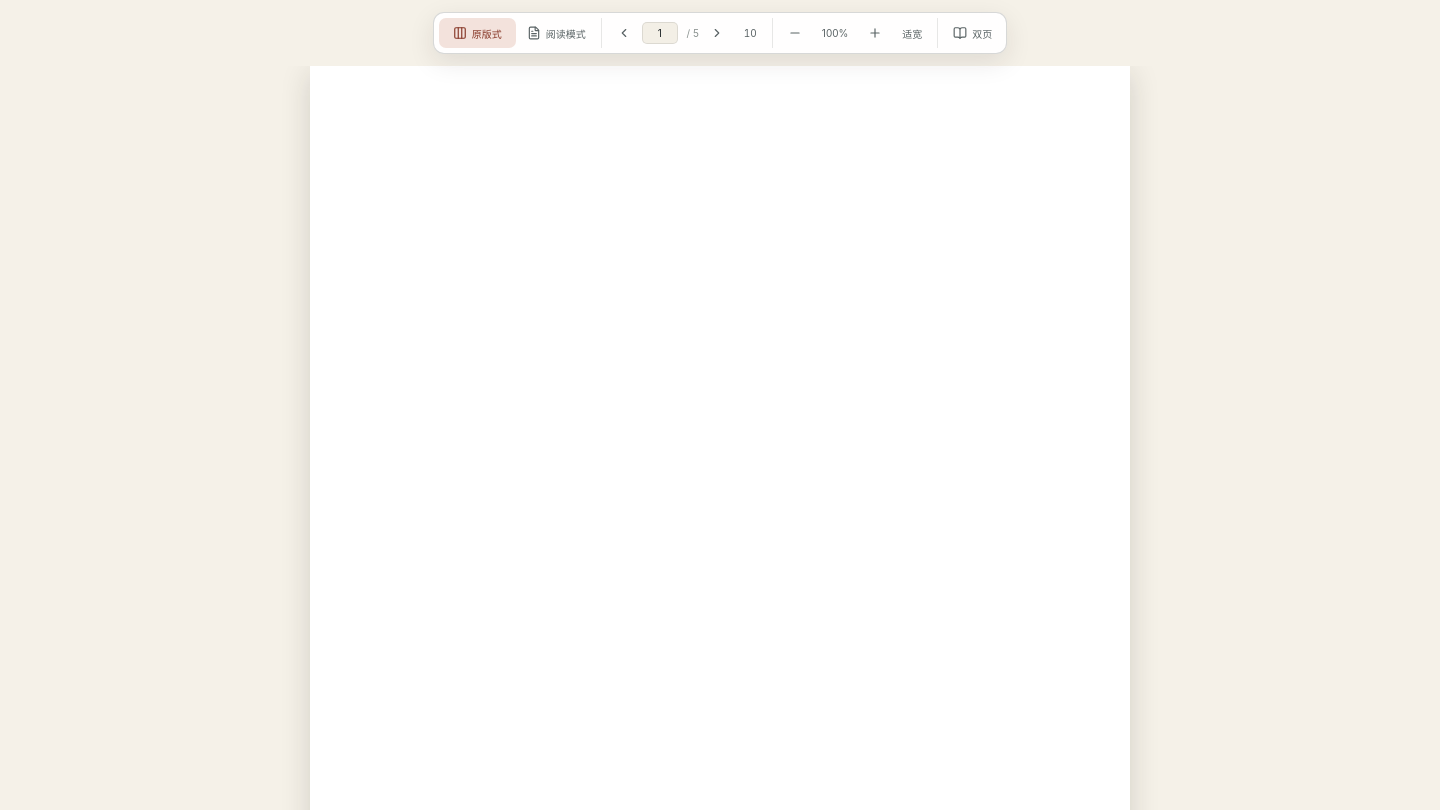
Scenario: PDF spread mode (plan-pdf-spread) › steps the pager by pairs while spread and keeps single-page numbers
The image size is (1440, 810).
Click the button "双页" at (973, 33), box top-left (944, 18), bottom-right (1001, 48)
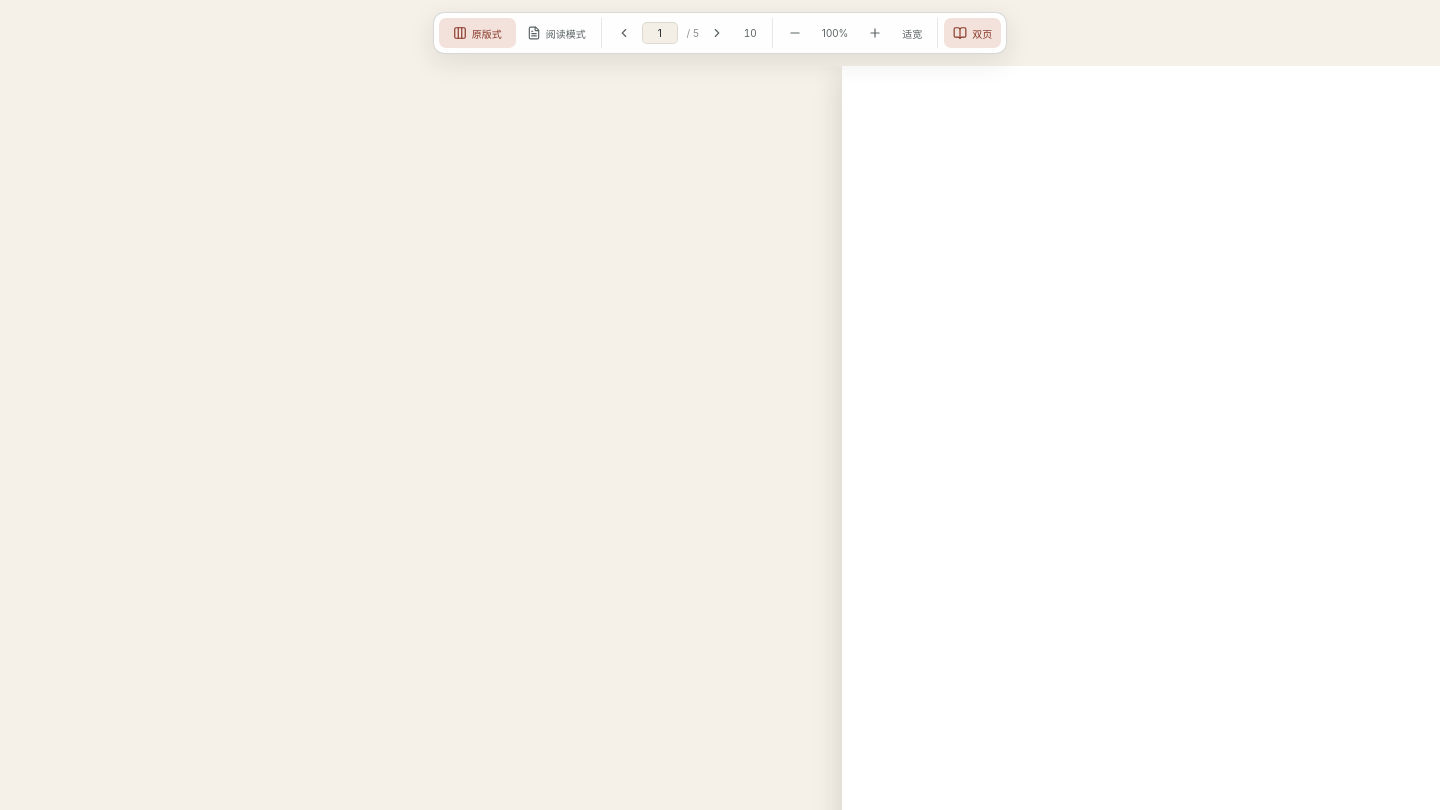
Expected: the field named "当前页" holds "1", top-left (642, 22), bottom-right (678, 44)
Click the button named "下一页" at (717, 33), box top-left (701, 18), bottom-right (733, 48)
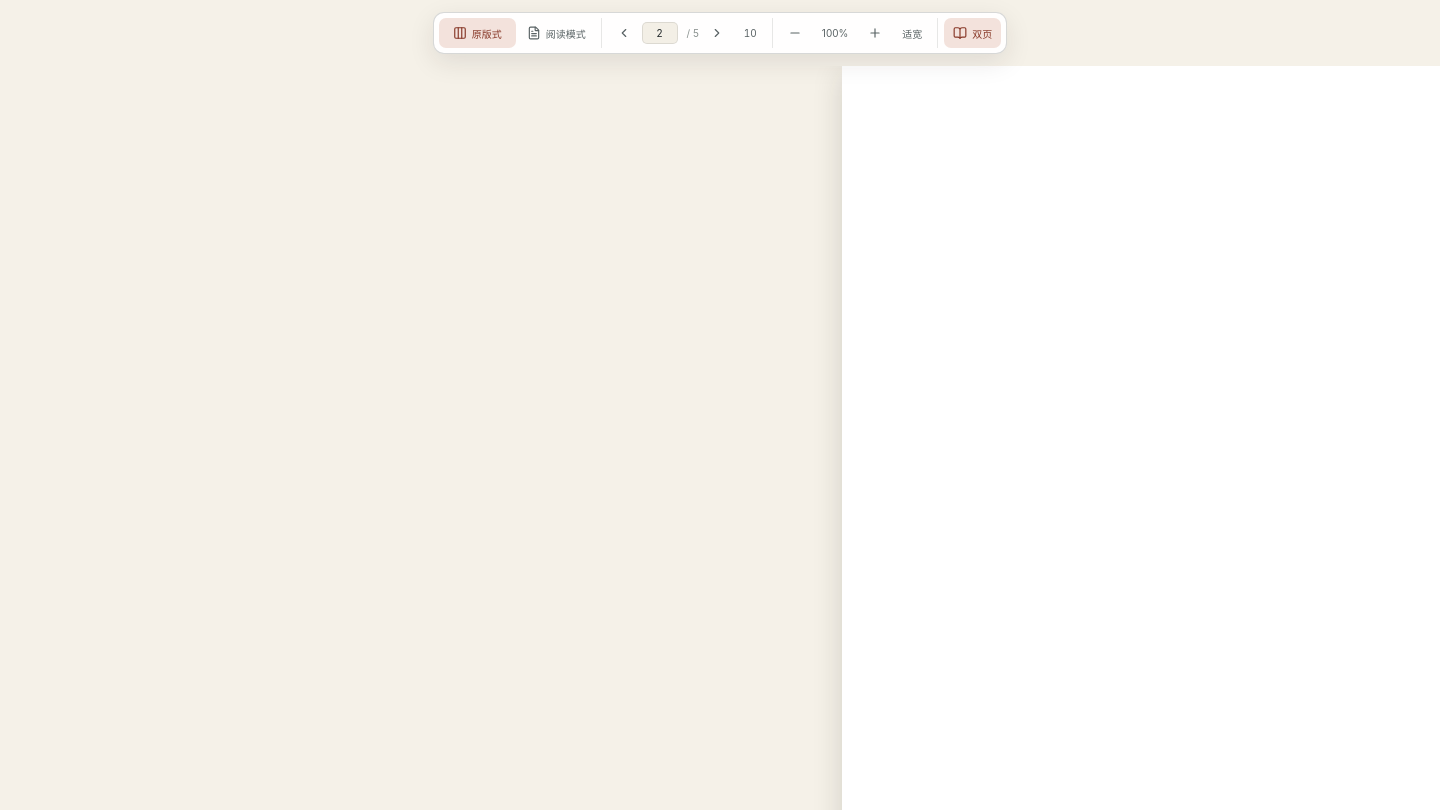
Now the field named "当前页" holds "2", box top-left (642, 22), bottom-right (678, 44)
Click the button named "下一页" at (717, 33), box top-left (701, 18), bottom-right (733, 48)
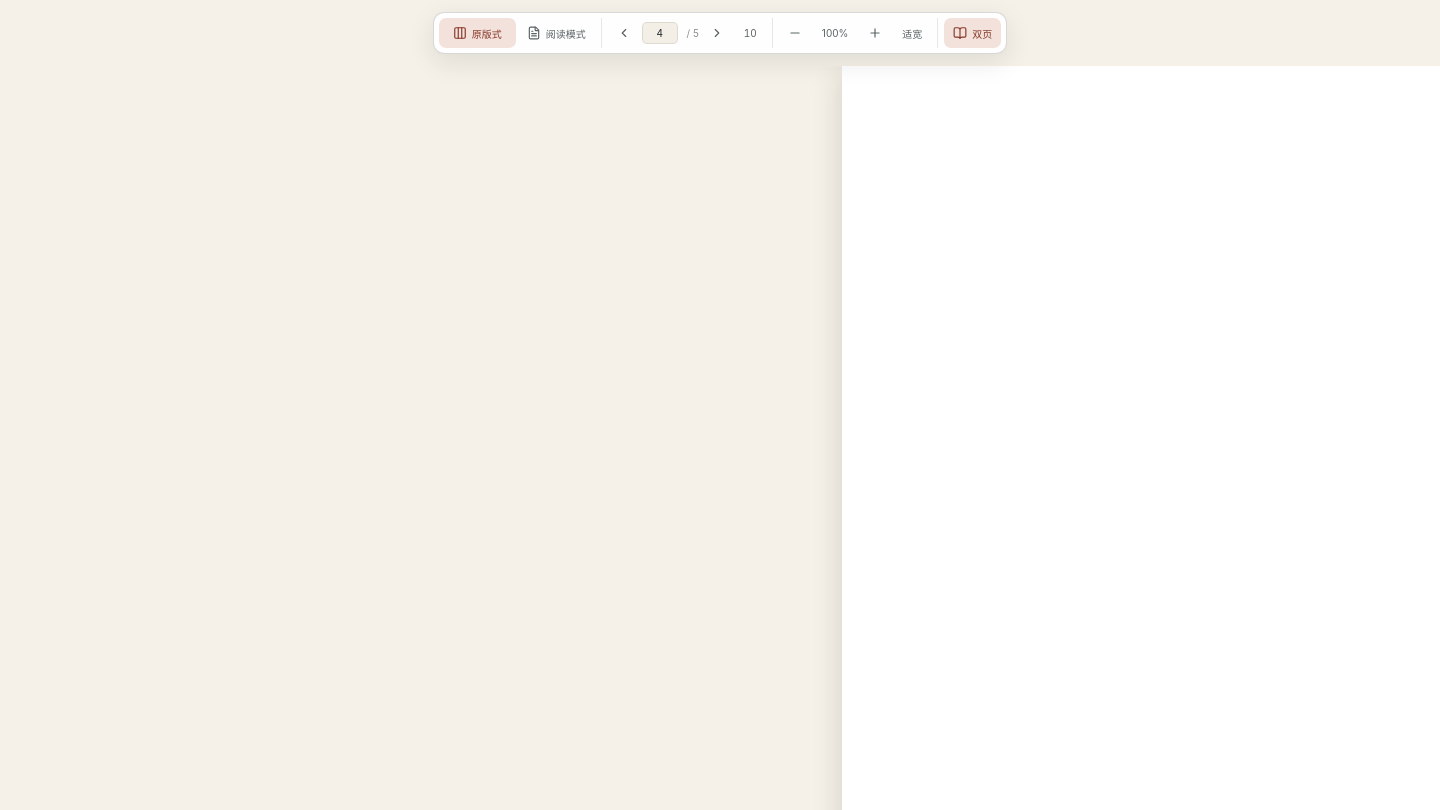
Now the field named "当前页" holds "4", box top-left (642, 22), bottom-right (678, 44)
Click the button named "上一页" at (624, 33), box top-left (608, 18), bottom-right (640, 48)
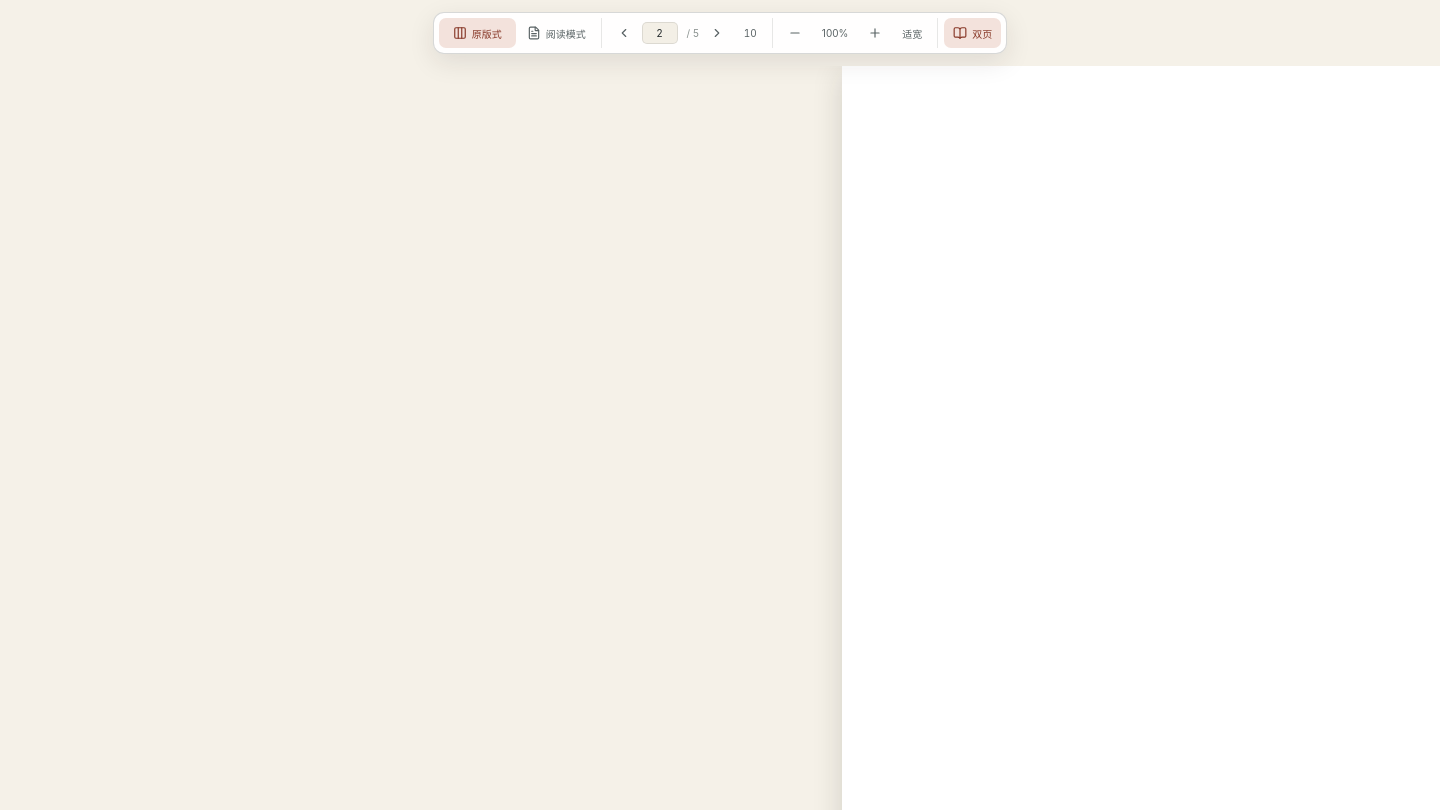
Now the field named "当前页" holds "2", box top-left (642, 22), bottom-right (678, 44)
Click the button named "上一页" at (624, 33), box top-left (608, 18), bottom-right (640, 48)
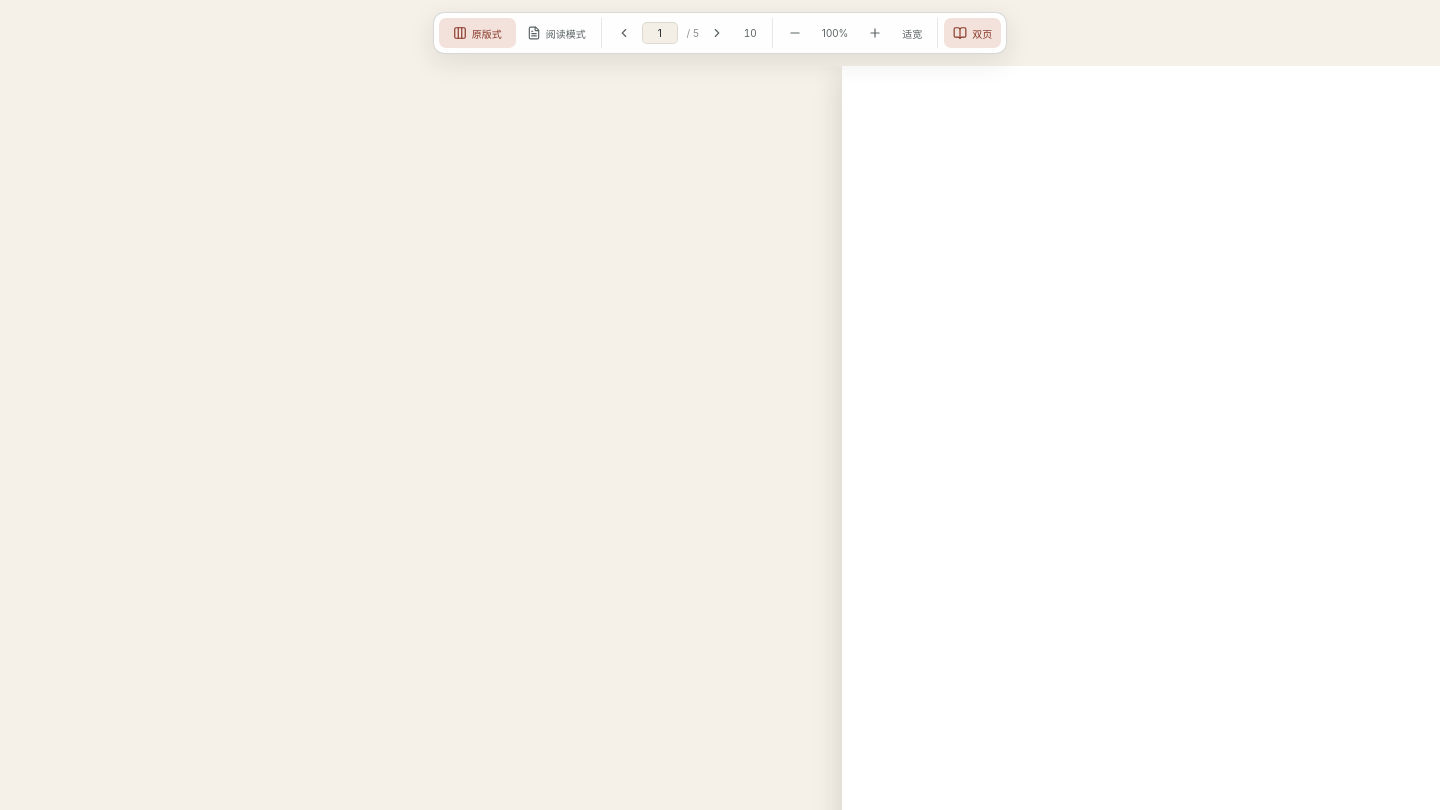
Now the field named "当前页" holds "1", box top-left (642, 22), bottom-right (678, 44)
